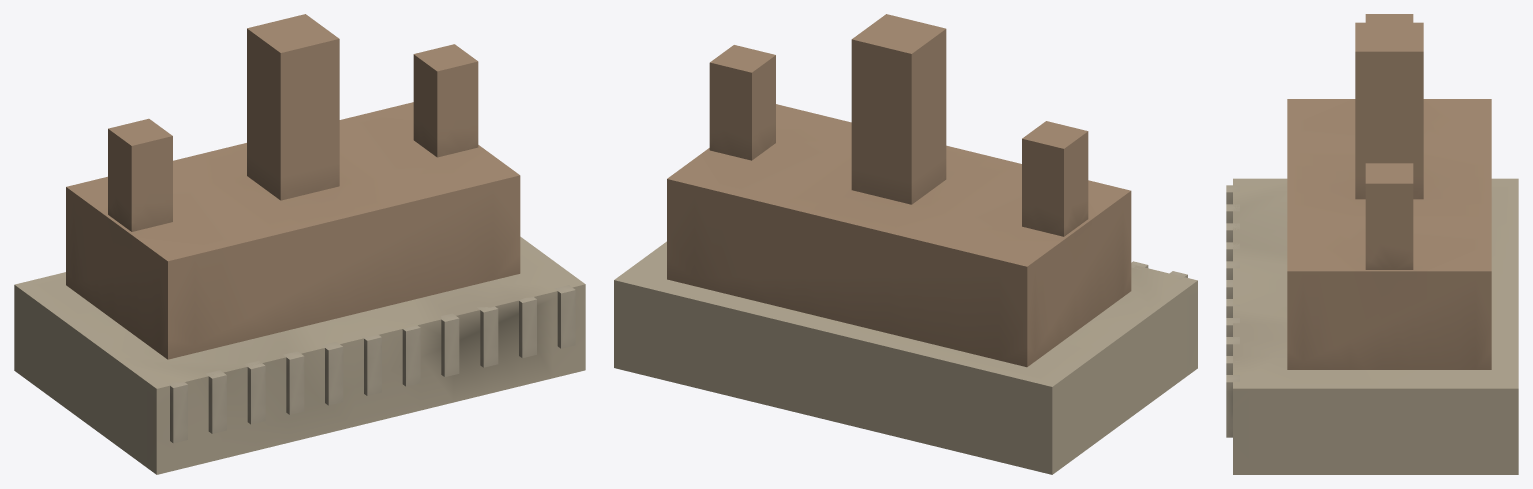
Rendered from palazzo-senatorio-medieval.glb.
3 views of the same model, side by side, from view 1: azimuth 30°, elevation 25°; view 2: azimuth 150°, elevation 25°; view 3: azimuth 270°, elevation 25° (orthographic). The views are drawn at different scales.
Visible parts, largest first — view 1: p1_palazzo, p0_substructure, p2_towers; view 2: p1_palazzo, p0_substructure, p2_towers; view 3: p0_substructure, p1_palazzo, p2_towers.
Part boxes in pixels (<box>): p1_palazzo: <box>66,102,520,359</box>; p0_substructure: <box>14,236,585,474</box>; p2_towers: <box>108,14,478,231</box>; p1_palazzo: <box>667,104,1131,367</box>; p0_substructure: <box>614,241,1197,474</box>; p2_towers: <box>709,14,1088,236</box>; p0_substructure: <box>1226,178,1518,474</box>; p1_palazzo: <box>1287,99,1491,369</box>; p2_towers: <box>1355,14,1423,269</box>.
Size of the model in its own units: 73 by 54 by 43.
